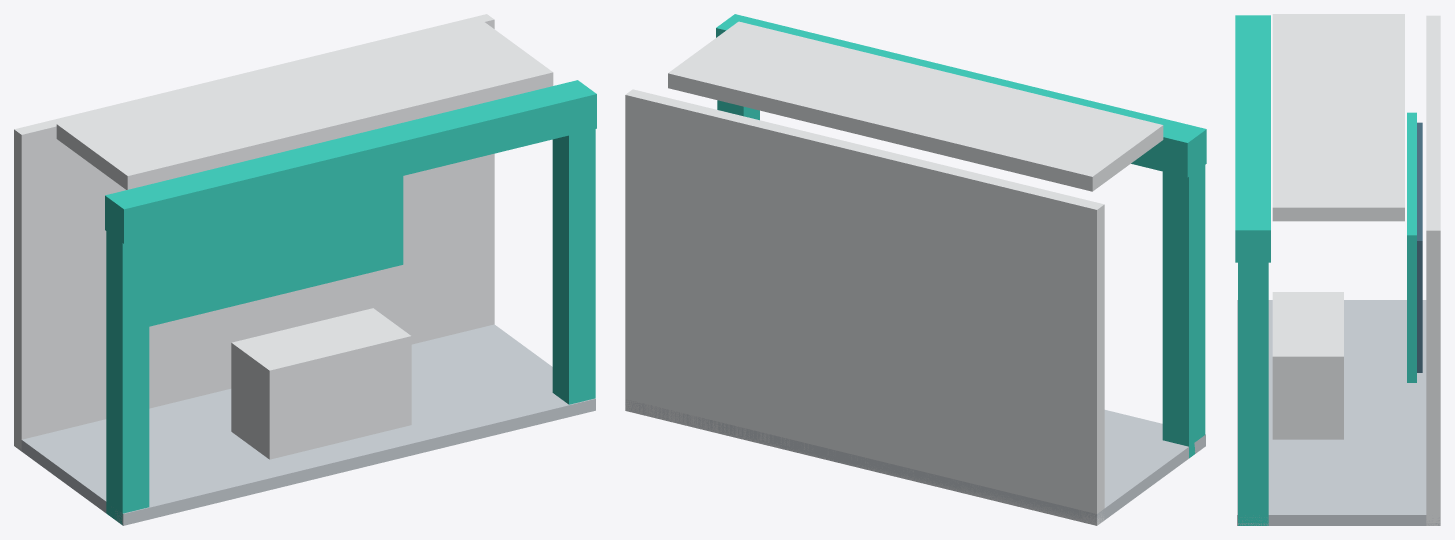
3 renders of one model, left to right at view 1: azimuth 30°, elevation 25°; view 2: azimuth 150°, elevation 25°; view 3: azimuth 270°, elevation 25°, orthographic. The views are drawn at different scales.
Visible parts, largest first — view 1: Exhibition Booth Concept; view 2: Exhibition Booth Concept; view 3: Exhibition Booth Concept.
Part boxes in pixels (x1,y1,x2,y2): Exhibition Booth Concept: (14, 14, 596, 525); Exhibition Booth Concept: (625, 14, 1206, 525); Exhibition Booth Concept: (1235, 14, 1440, 525).
Size of the model in its own units: 5 by 3.34 by 2.01.
